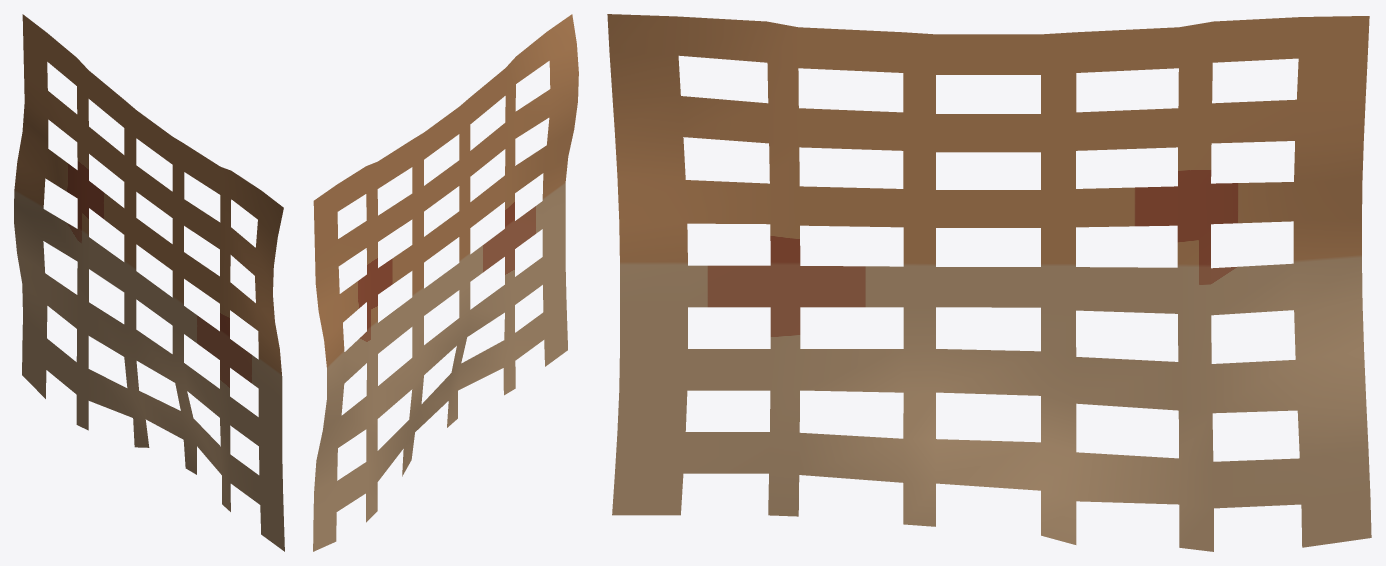
Rendered from Red.FBX.
The picture shows the model from 3 angles, left to right: view 1: azimuth 30°, elevation 25°; view 2: azimuth 150°, elevation 25°; view 3: azimuth 270°, elevation 25°; orthographic projection. The views are drawn at different scales.
Parts seen in each view (by area): view 1: red; view 2: red; view 3: red.
Boxes of the visible parts, x1,y1,x2,y2 form: red: (14, 14, 284, 551); red: (313, 14, 578, 551); red: (607, 14, 1371, 551).
Bounding box in the file's own units: 22.69 × 434 × 336.
1 material, 1 textured.
